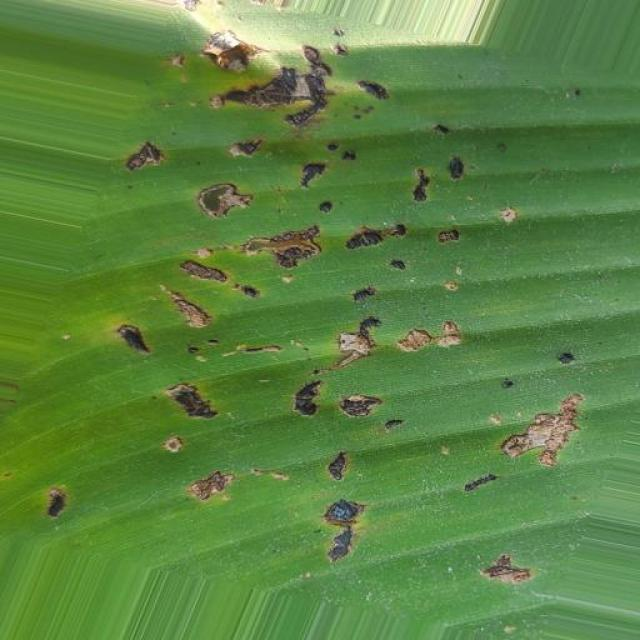Black_rot: (38, 21, 593, 614)
